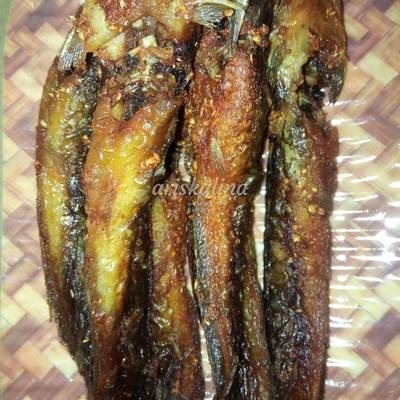pecel_lele: (267, 5, 335, 398), (188, 4, 252, 392)
